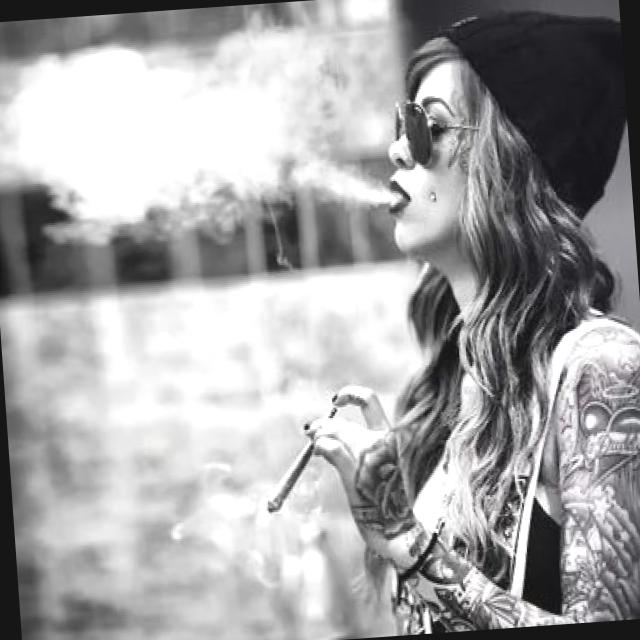smoke: (259, 401, 348, 514)
